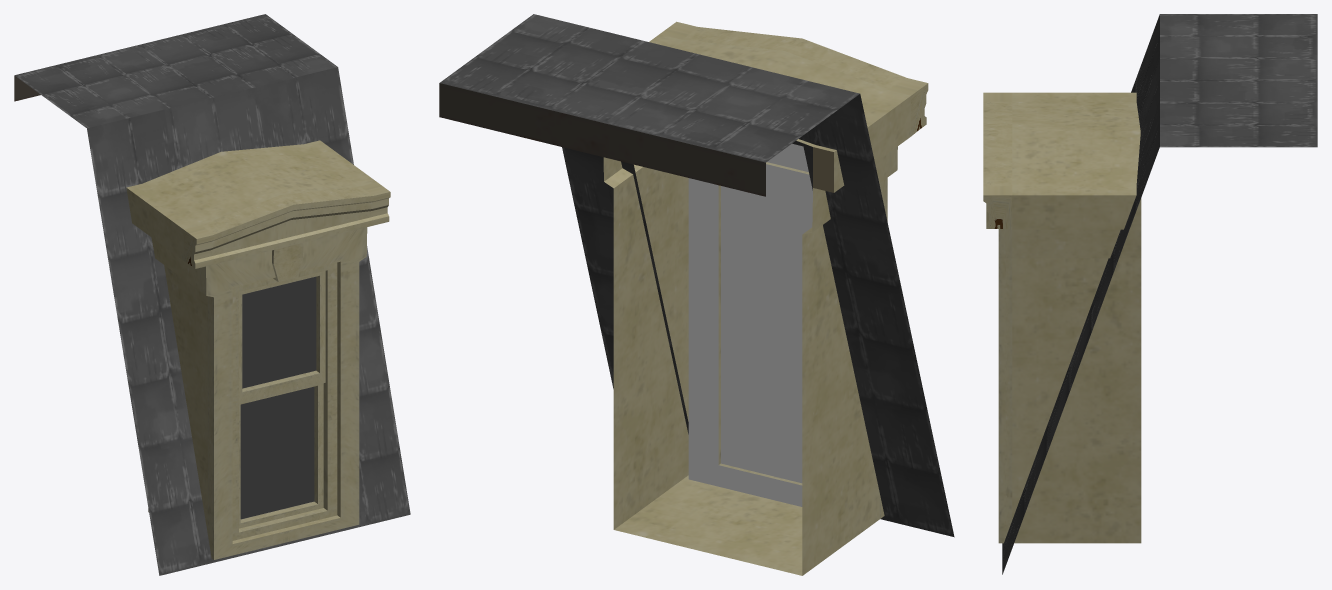
Rendered from roof_slate_window_1.glb.
3 renders of one model, left to right at view 1: azimuth 30°, elevation 25°; view 2: azimuth 150°, elevation 25°; view 3: azimuth 270°, elevation 25°, orthographic. The views are drawn at different scales.
Parts seen in each view (by area): view 1: Roof_Slate_Window_1; view 2: Roof_Slate_Window_1; view 3: Roof_Slate_Window_1.
Part boxes in pixels (<box>): Roof_Slate_Window_1: <box>14,14,410,575</box>; Roof_Slate_Window_1: <box>439,14,954,575</box>; Roof_Slate_Window_1: <box>983,14,1317,574</box>.
Size of the model in its own units: 2 by 3 by 2.12.
5 materials, 3 textured.
